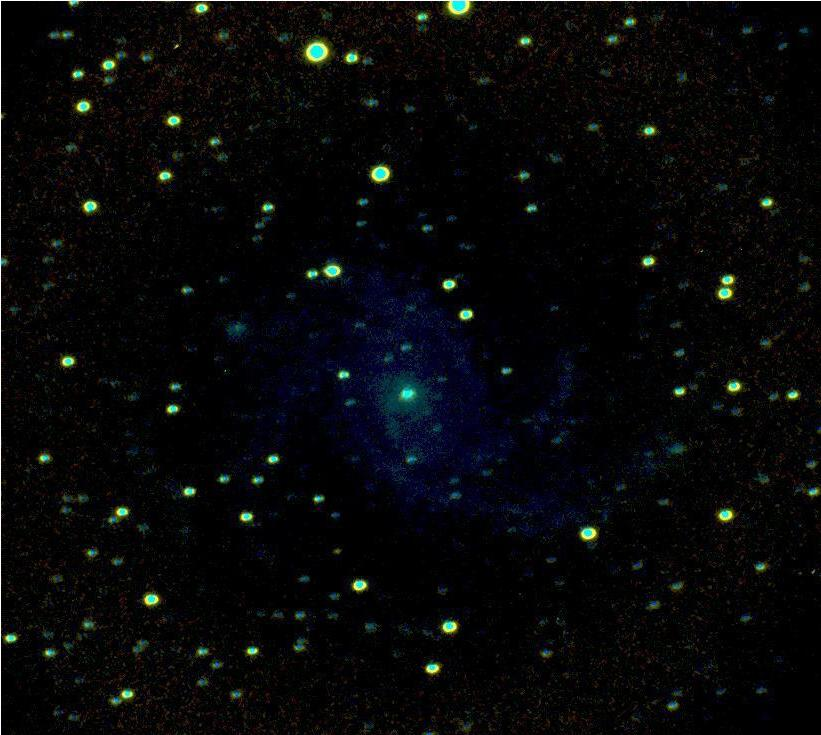star: (323, 535, 353, 565)
